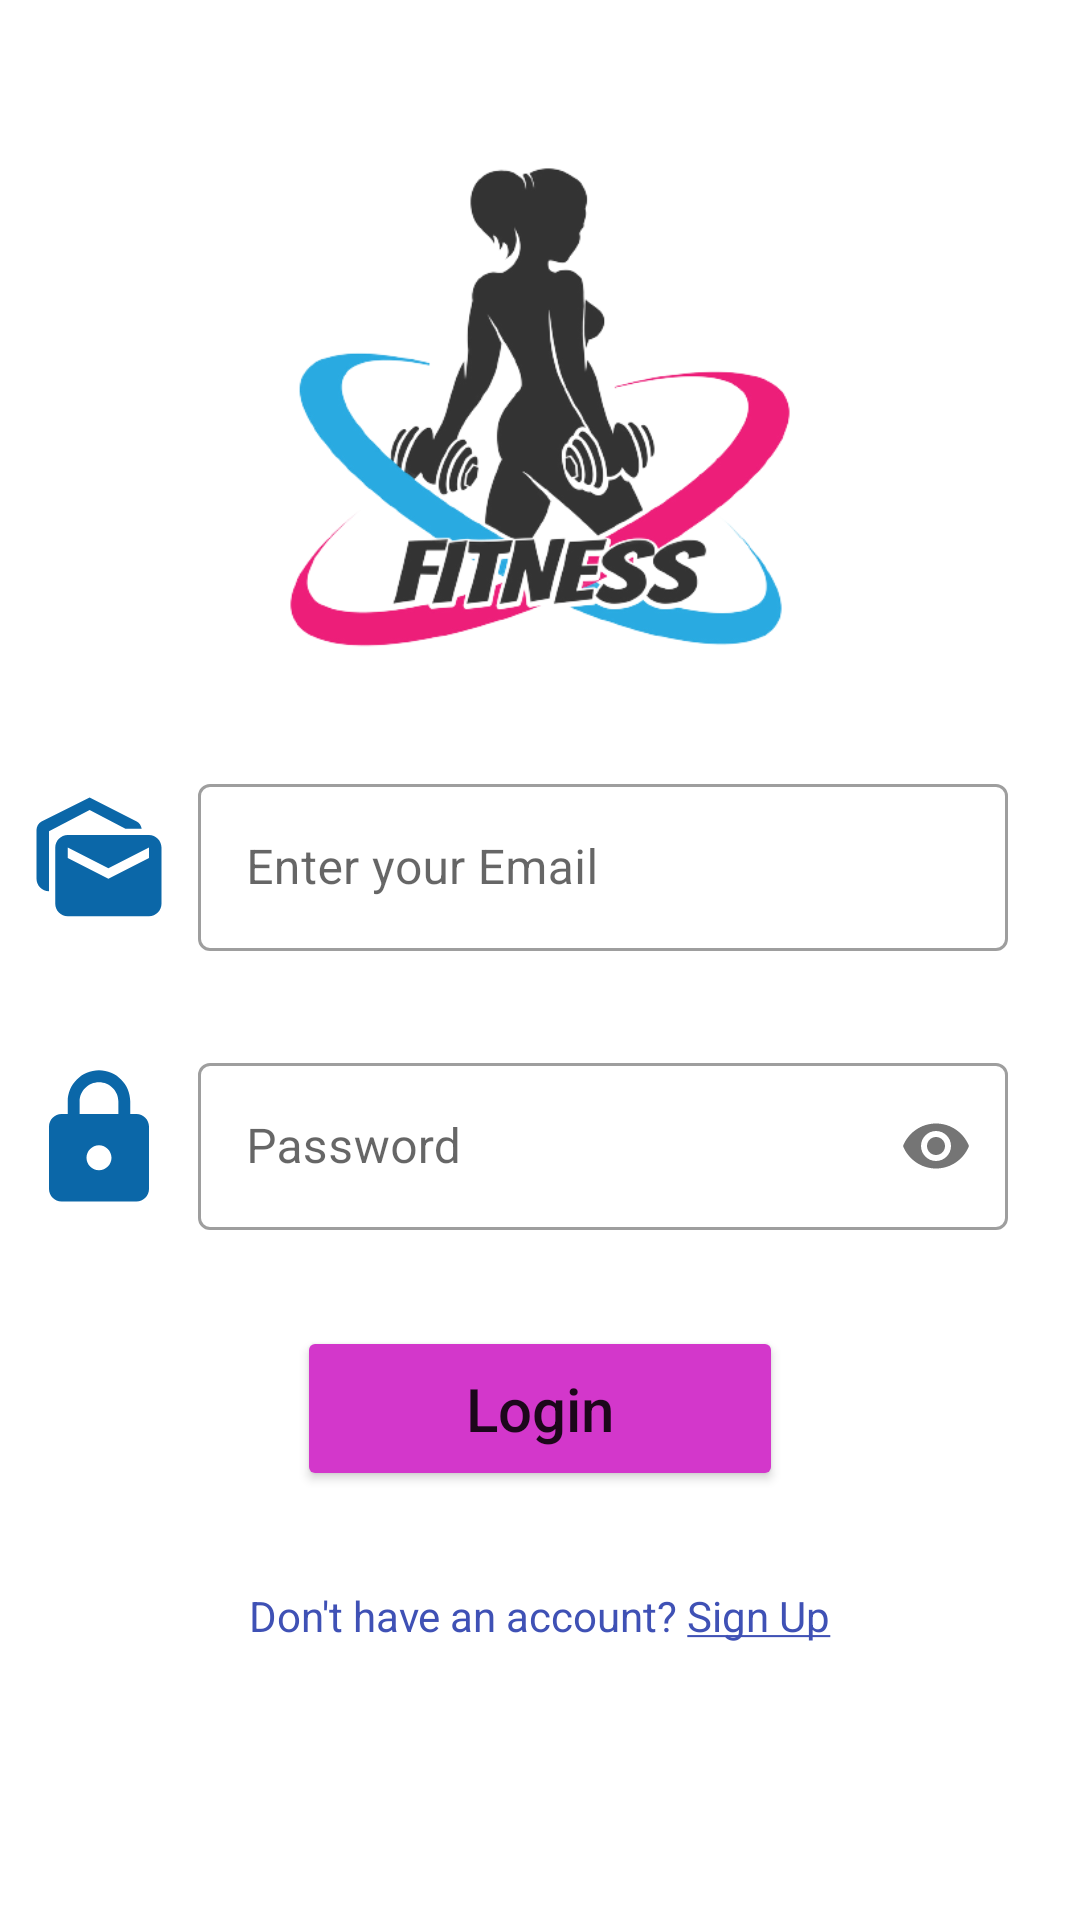

Named icons in this screenshot (1080 x 1920) and their centers, point (x, y):
mark as unread: point (99, 857)
